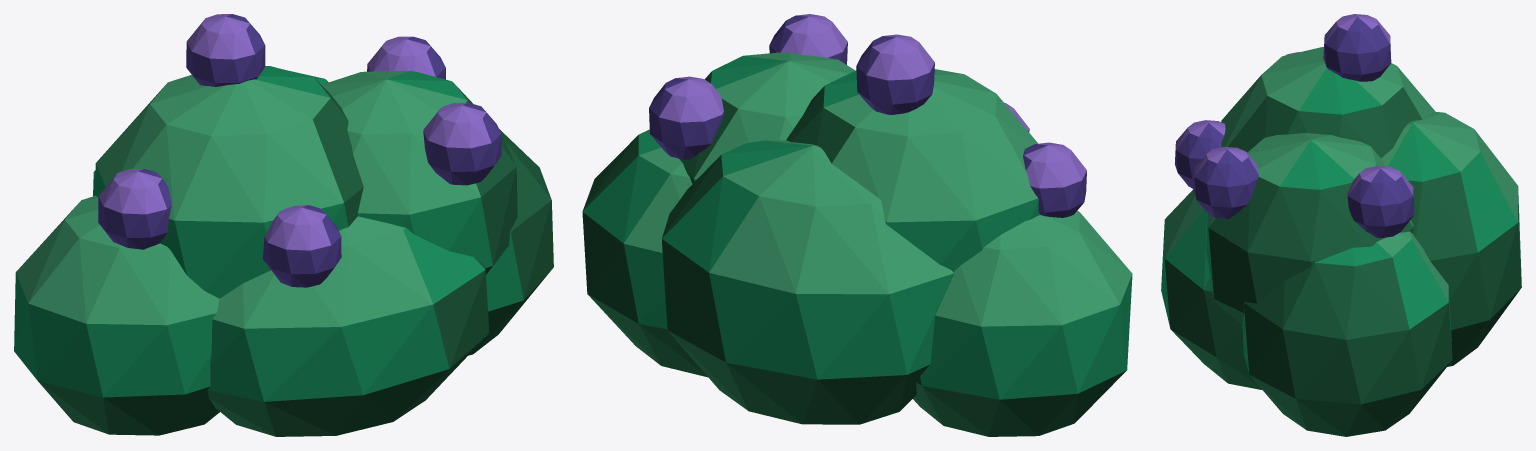
Rendered from berry-bush.fbx.
3 views of the same model, side by side, from view 1: azimuth 30°, elevation 25°; view 2: azimuth 150°, elevation 25°; view 3: azimuth 270°, elevation 25° (orthographic). The views are drawn at different scales.
Parts seen in each view (by area): view 1: Foliage, Berry_02, Berry_03, Berry_01, Berry_04, Berry_05; view 2: Foliage, Berry_04, Berry_05, Berry_01, Berry_03; view 3: Foliage, Berry_05, Berry_04, Berry_03, Berry_02.
Boxes of the visible parts, bbox=[...] form: Foliage: bbox=[14, 66, 553, 436]; Berry_02: bbox=[263, 205, 341, 287]; Berry_03: bbox=[423, 103, 501, 185]; Berry_01: bbox=[98, 169, 171, 249]; Berry_04: bbox=[186, 14, 265, 86]; Berry_05: bbox=[367, 36, 445, 79]; Foliage: bbox=[582, 52, 1132, 436]; Berry_04: bbox=[856, 34, 934, 114]; Berry_05: bbox=[649, 76, 723, 159]; Berry_01: bbox=[1023, 142, 1086, 217]; Berry_03: bbox=[769, 14, 847, 64]; Foliage: bbox=[1161, 47, 1521, 436]; Berry_05: bbox=[1347, 166, 1414, 238]; Berry_04: bbox=[1323, 14, 1391, 81]; Berry_03: bbox=[1193, 147, 1258, 219]; Berry_02: bbox=[1175, 120, 1225, 188].
Size of the model in its own units: 5.61 by 3.96 by 3.88.
Materials: 1 (1 with a texture image).
